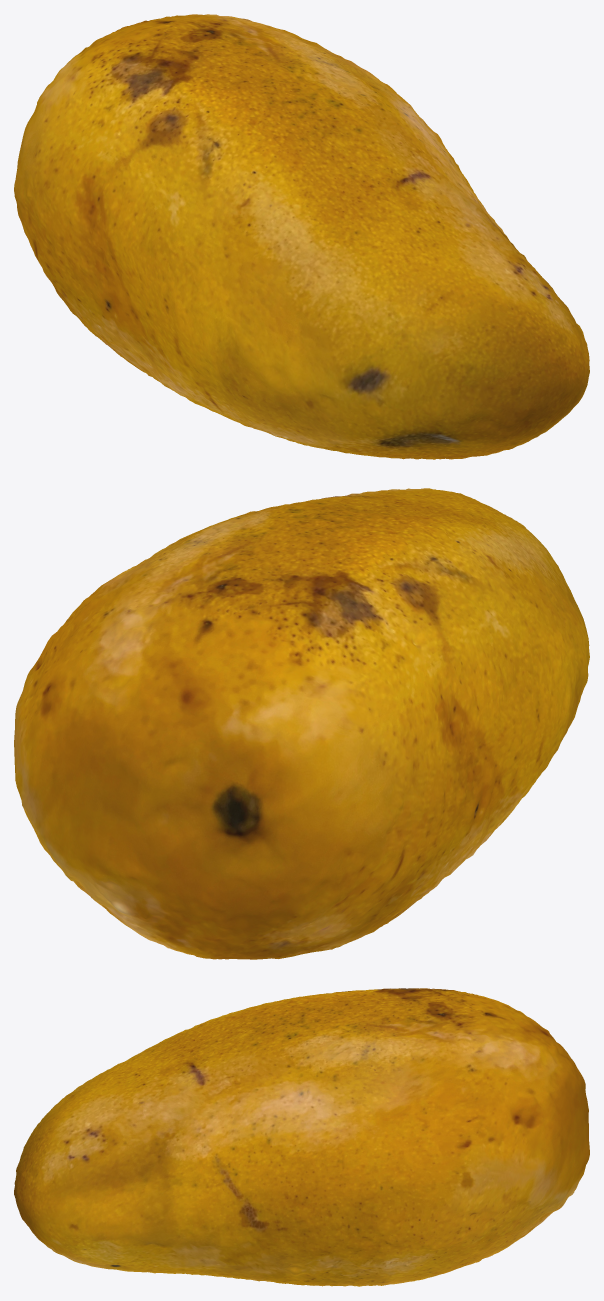
The model's file is mango.glb.
The picture shows the model from 3 angles, top to bottom: view 1: azimuth 30°, elevation 25°; view 2: azimuth 150°, elevation 25°; view 3: azimuth 270°, elevation 25°; orthographic projection. The views are drawn at different scales.
Parts seen in each view (by area): view 1: Object_4; view 2: Object_4; view 3: Object_4.
Boxes of the visible parts, left/top/right/bottom form: Object_4: left=14, top=14, right=589, bottom=459; Object_4: left=14, top=488, right=589, bottom=959; Object_4: left=14, top=988, right=589, bottom=1286.
Size of the model in its own units: 0.8563 by 0.7403 by 1.51.
Materials: 1 (1 with a texture image).
